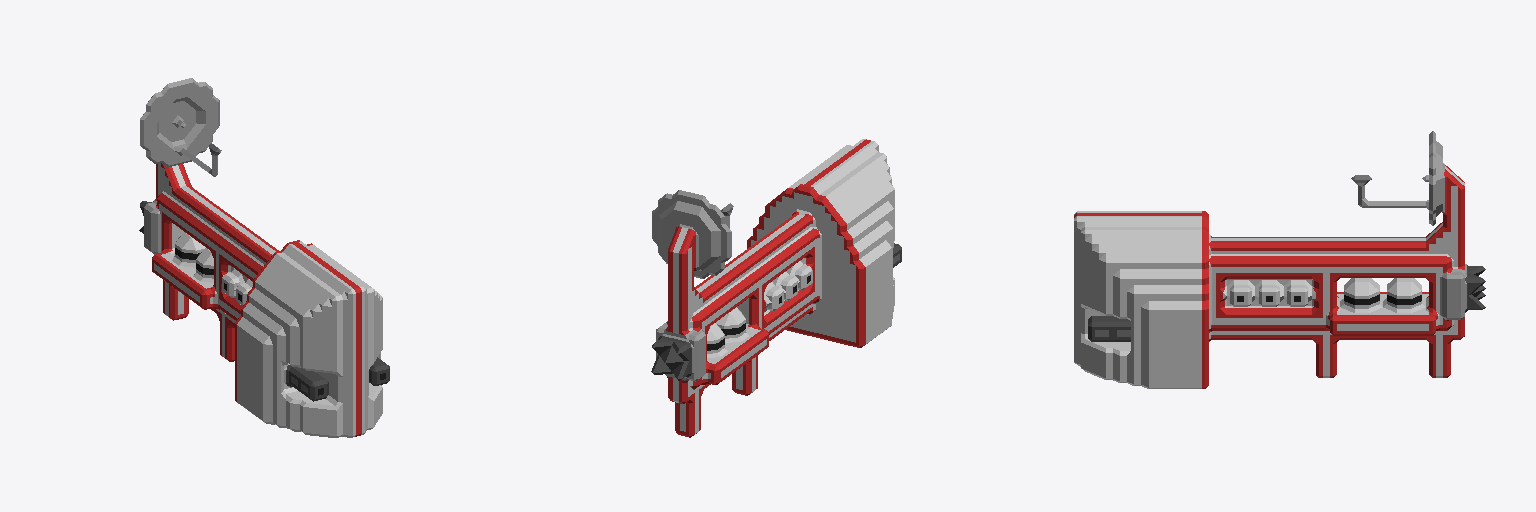
The picture shows the model from 3 angles: view 1: azimuth 30°, elevation 25°; view 2: azimuth 150°, elevation 25°; view 3: azimuth 270°, elevation 25°; orthographic projection.
Size of the model in its own units: 19 by 37 by 58.
Materials: 1 (1 with a texture image).